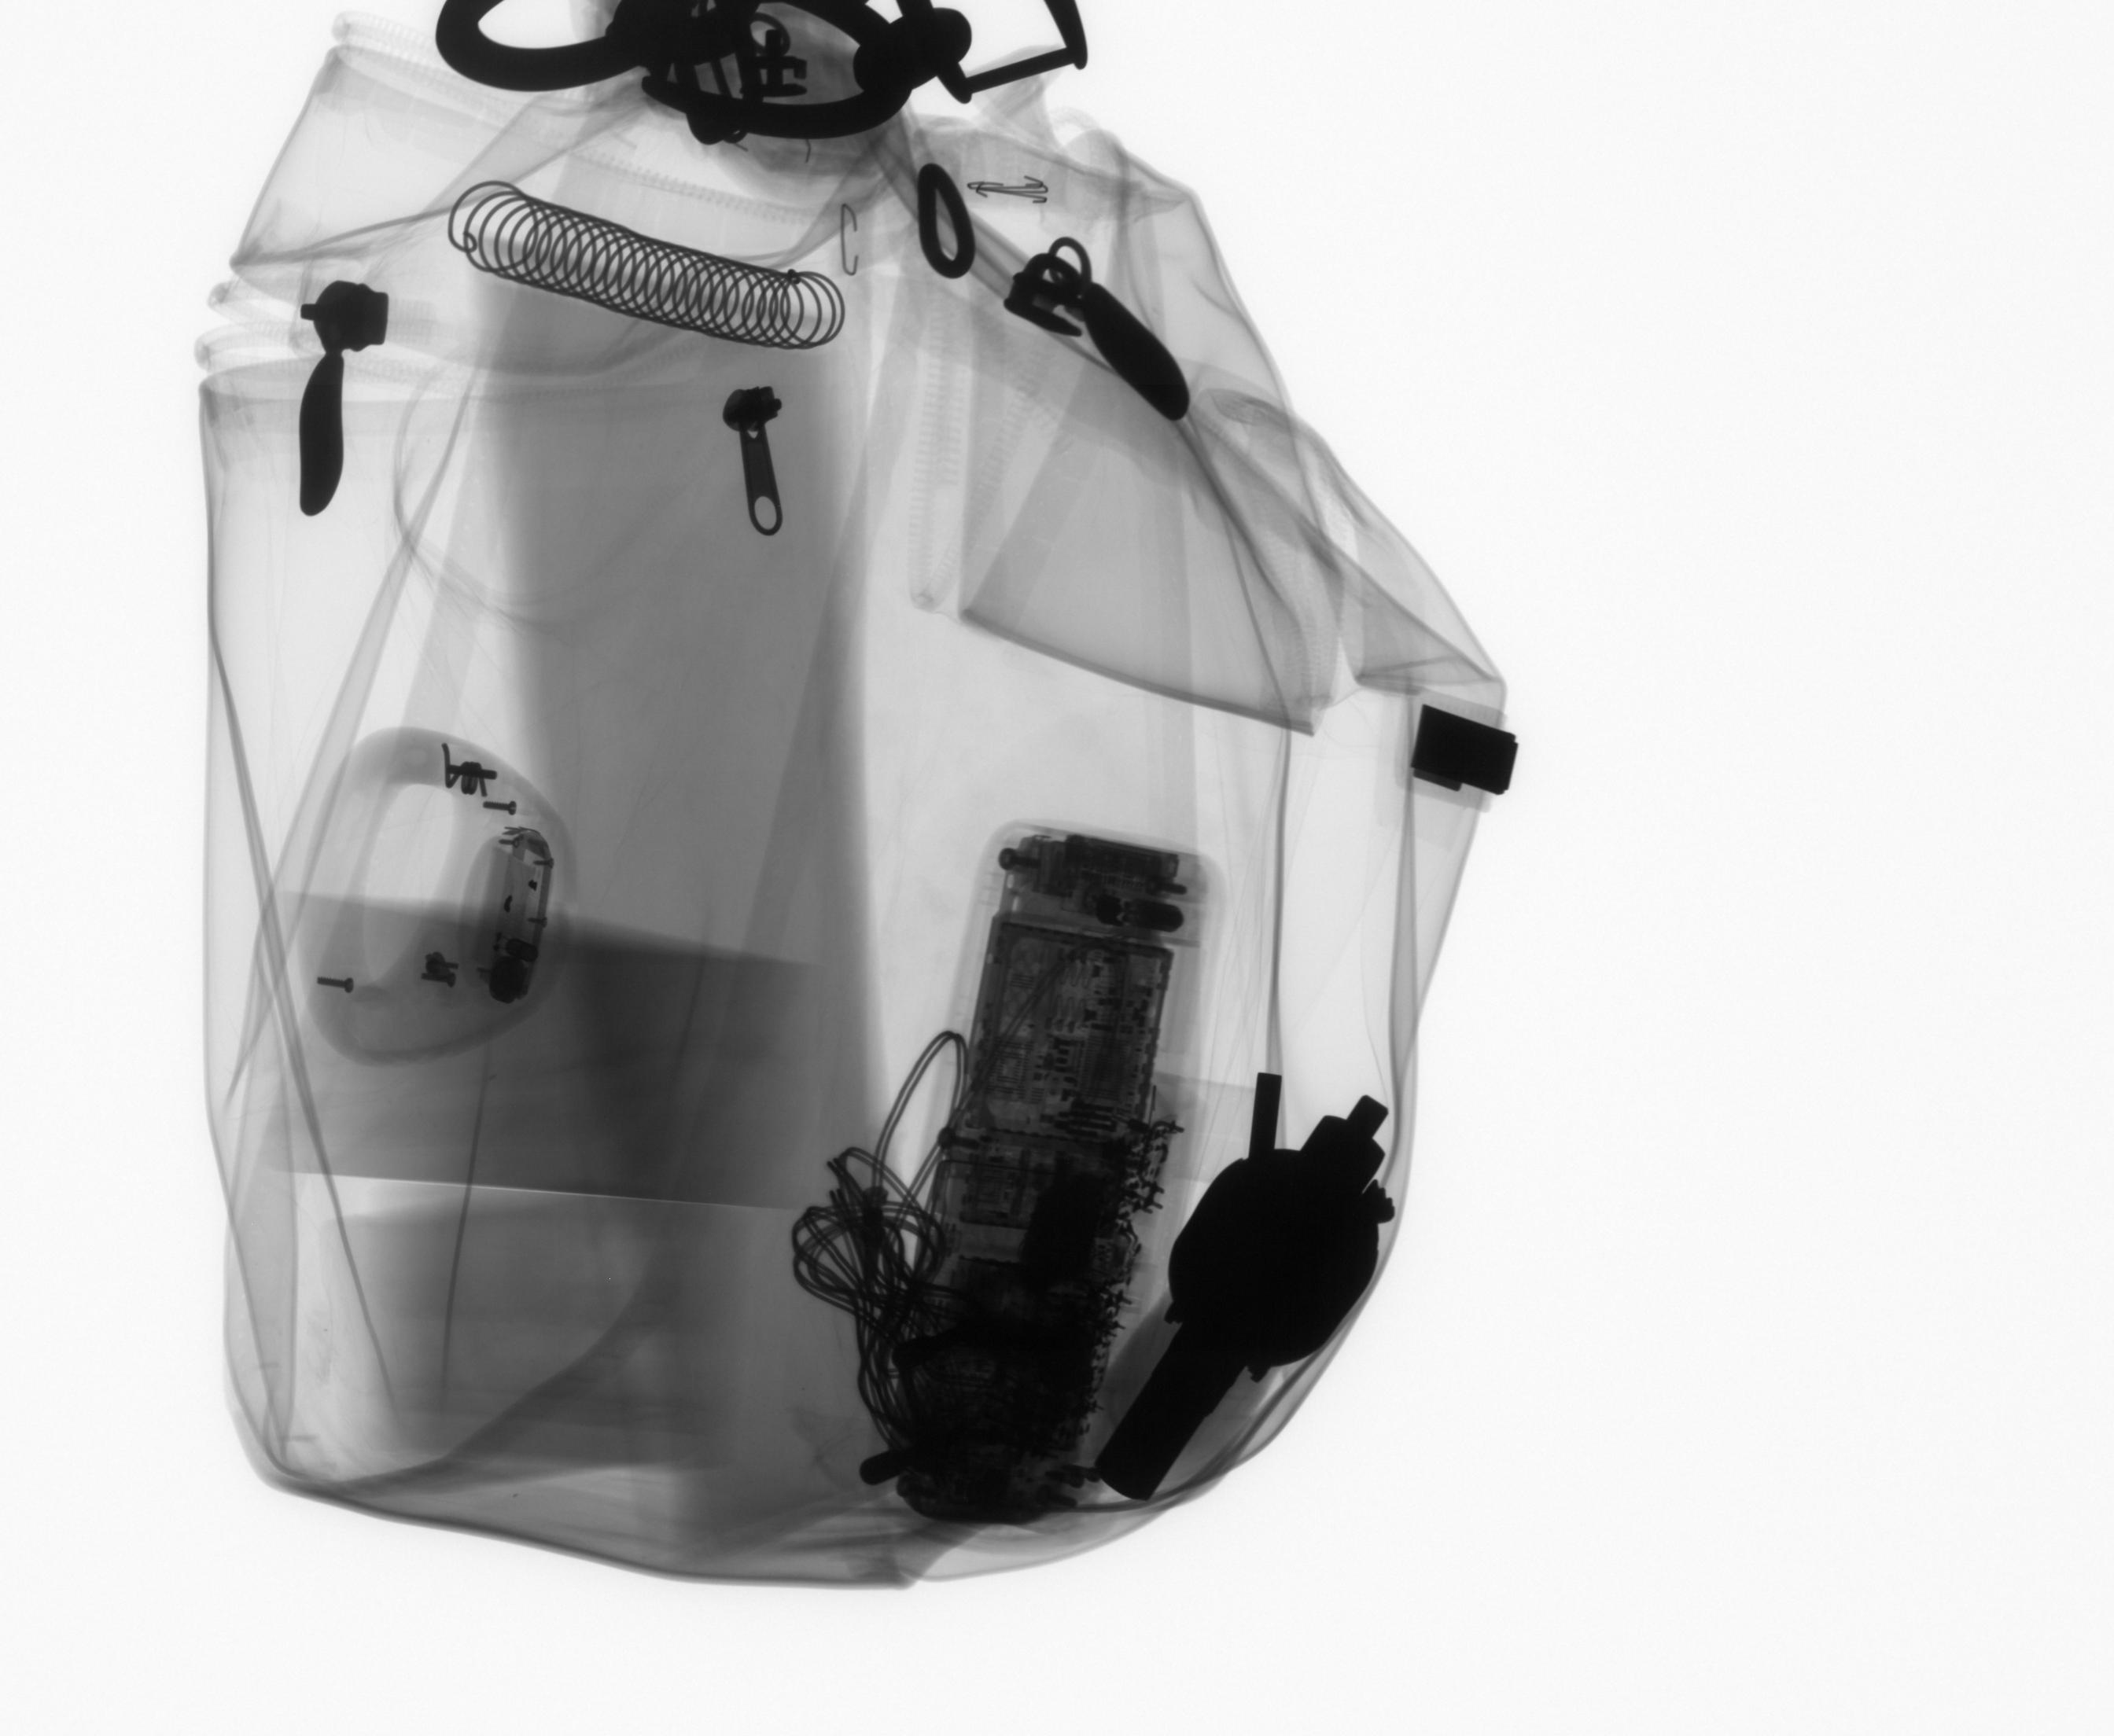Handgun: (1092, 1090, 1405, 1511)
